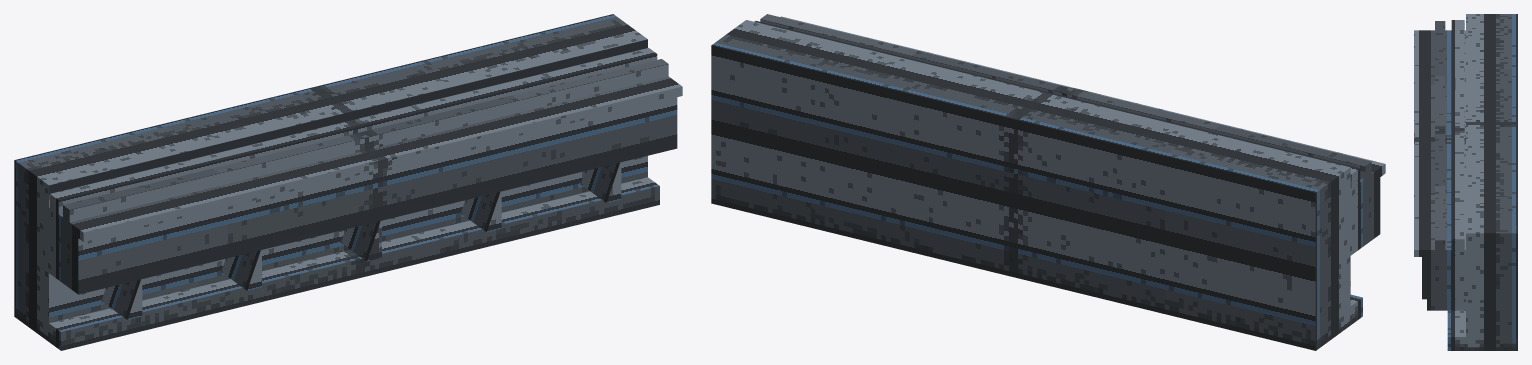
The model's file is arch_wall_upper.glb.
The picture shows the model from 3 angles, left to right: view 1: azimuth 30°, elevation 25°; view 2: azimuth 150°, elevation 25°; view 3: azimuth 270°, elevation 25°; orthographic projection. The views are drawn at different scales.
Parts seen in each view (by area): view 1: arch_wall_upper; view 2: arch_wall_upper; view 3: arch_wall_upper.
Part boxes in pixels (x1=…): arch_wall_upper: x1=14, y1=14, x2=682, y2=350; arch_wall_upper: x1=711, y1=14, x2=1385, y2=350; arch_wall_upper: x1=1414, y1=14, x2=1517, y2=350.
Size of the model in its own units: 4 by 1 by 0.8.
Materials: 1 (1 with a texture image).
